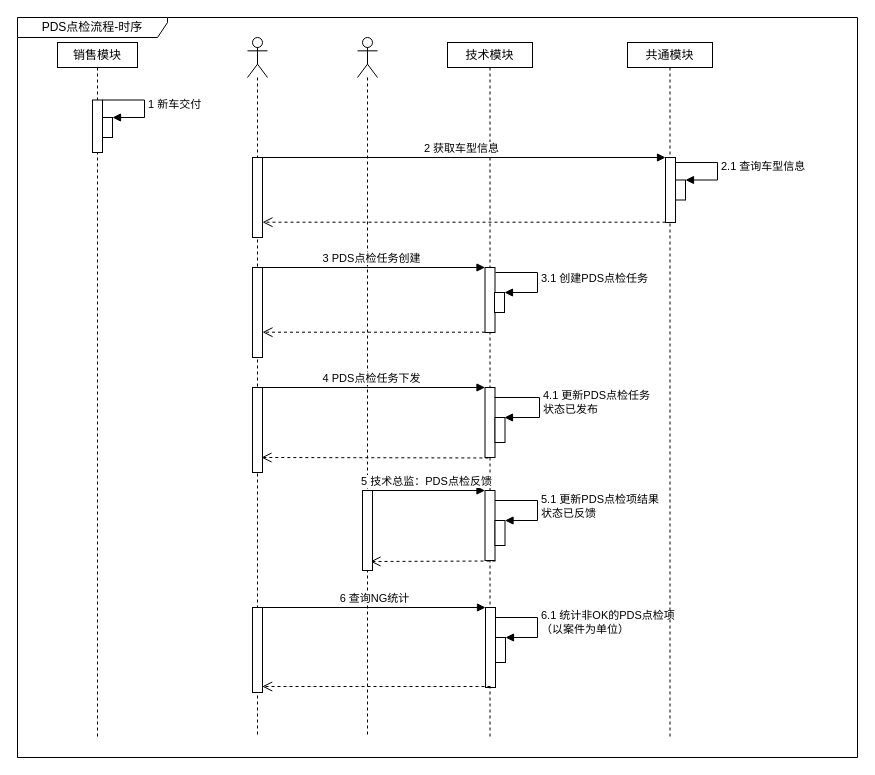
The diagram is 875 pixels wide and 775 high, and some of its shapes have lost their labels. Each missing label, with the box of its shape:
DLR-技术总监: (356, 36, 378, 738)
EDER: (246, 36, 268, 738)
